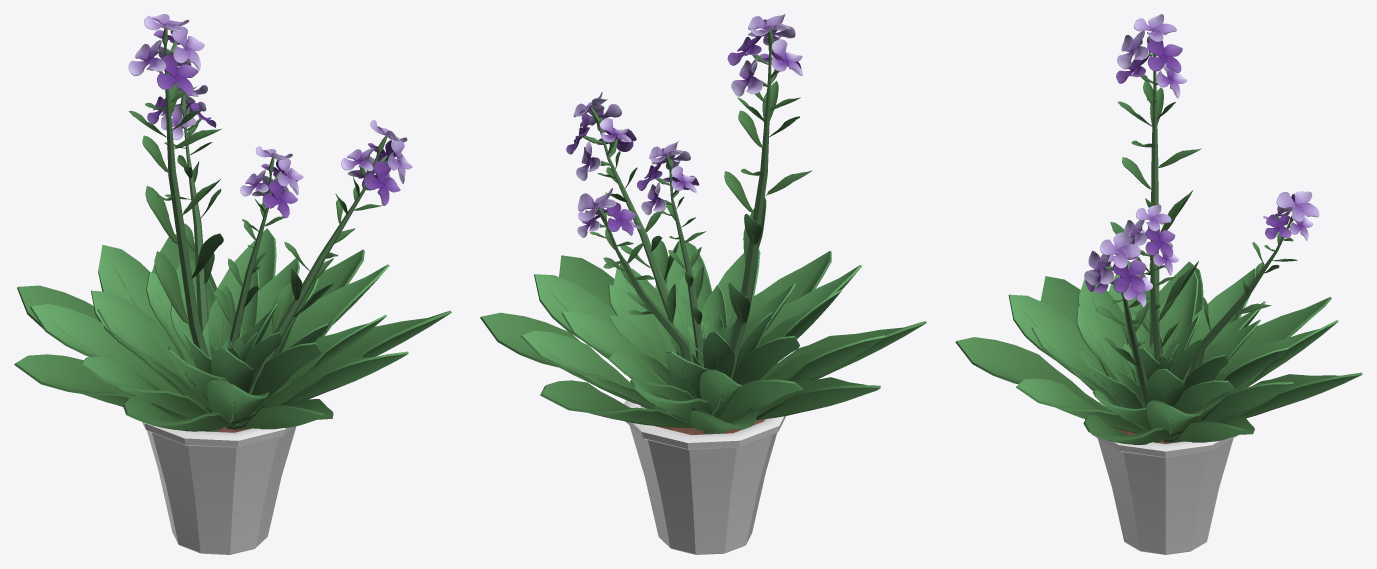
File: Violet Flower in  white flowerpot.fbx
3 renders of one model, left to right at view 1: azimuth 30°, elevation 25°; view 2: azimuth 150°, elevation 25°; view 3: azimuth 270°, elevation 25°, orthographic. The views are drawn at different scales.
Visible parts, largest first — view 1: FLowerLeafs, FlowerViolett, PotWhite; view 2: FLowerLeafs, FlowerViolett, PotWhite; view 3: FLowerLeafs, FlowerViolett, PotWhite.
Boxes of the visible parts, left/top/right/bottom form: FLowerLeafs: left=14, top=228, right=451, bottom=431; FlowerViolett: left=128, top=14, right=412, bottom=431; PotWhite: left=142, top=422, right=296, bottom=554; FLowerLeafs: left=480, top=240, right=926, bottom=433; FlowerViolett: left=566, top=14, right=812, bottom=434; PotWhite: left=624, top=400, right=785, bottom=554; FLowerLeafs: left=955, top=261, right=1362, bottom=444; FlowerViolett: left=1084, top=14, right=1319, bottom=429; PotWhite: left=1091, top=402, right=1237, bottom=554.
Size of the model in its own units: 198 by 267 by 201.
1 material, 1 textured.
